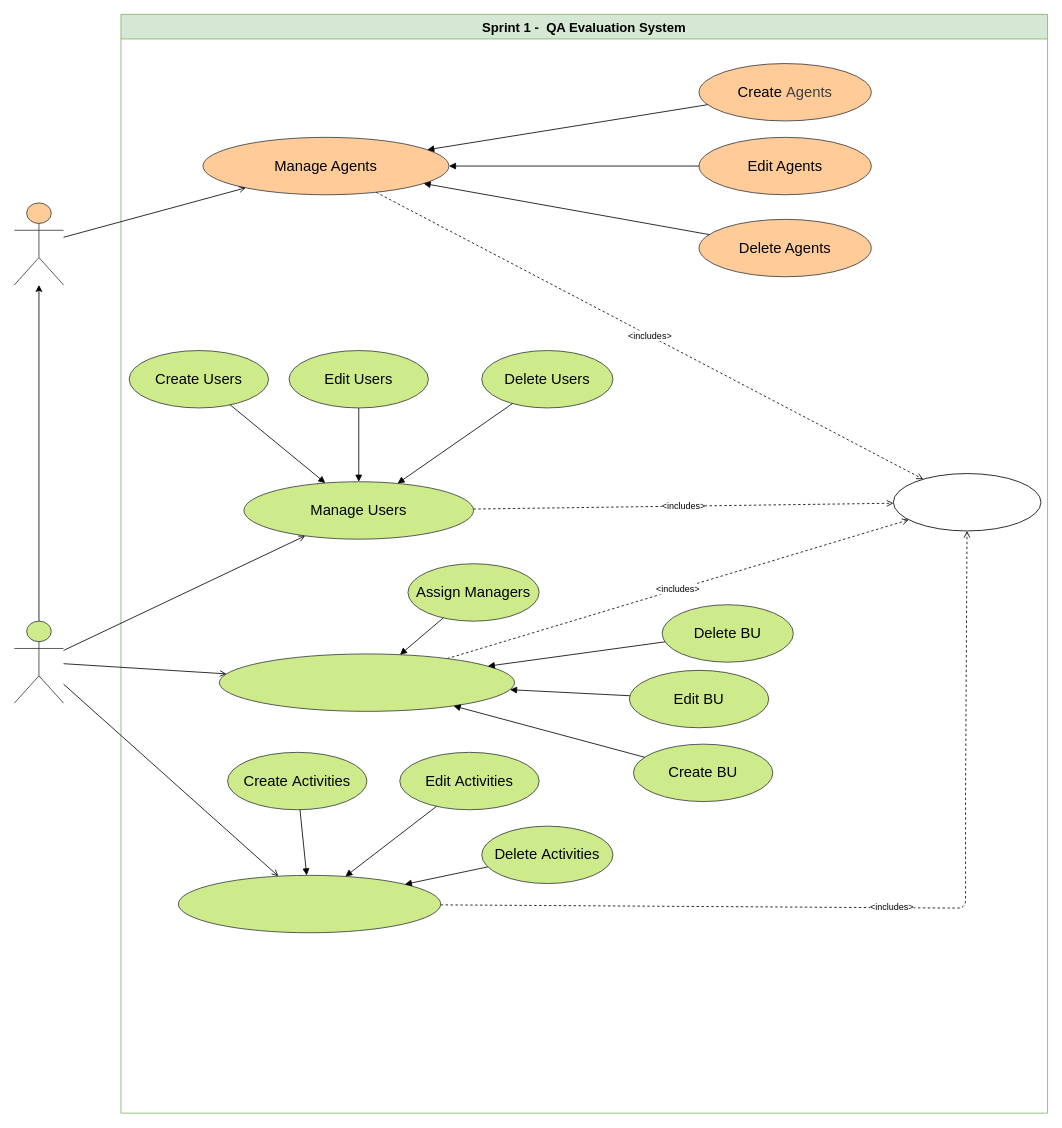
This 1062x1128 diagram has some shape labels left out. The shapes that lost their labels are listed below. From the top down, each one's centre as x and y in pixels, then its label:
At (39,243): "Manager".
At (967,502): "Login".
At (39,661): "Admin".
At (367,682): "Manage Business Units".
At (309,904): "Manage Activities".
